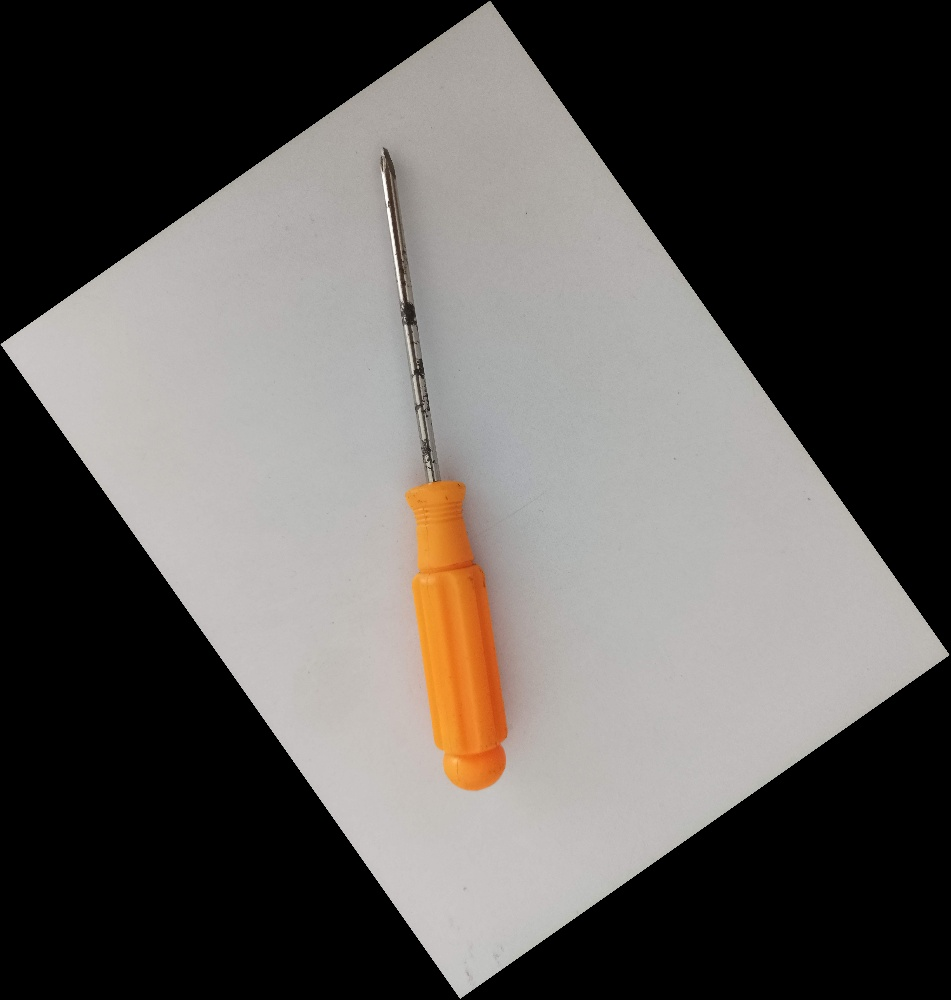screwdriver: (371, 141, 510, 793)
